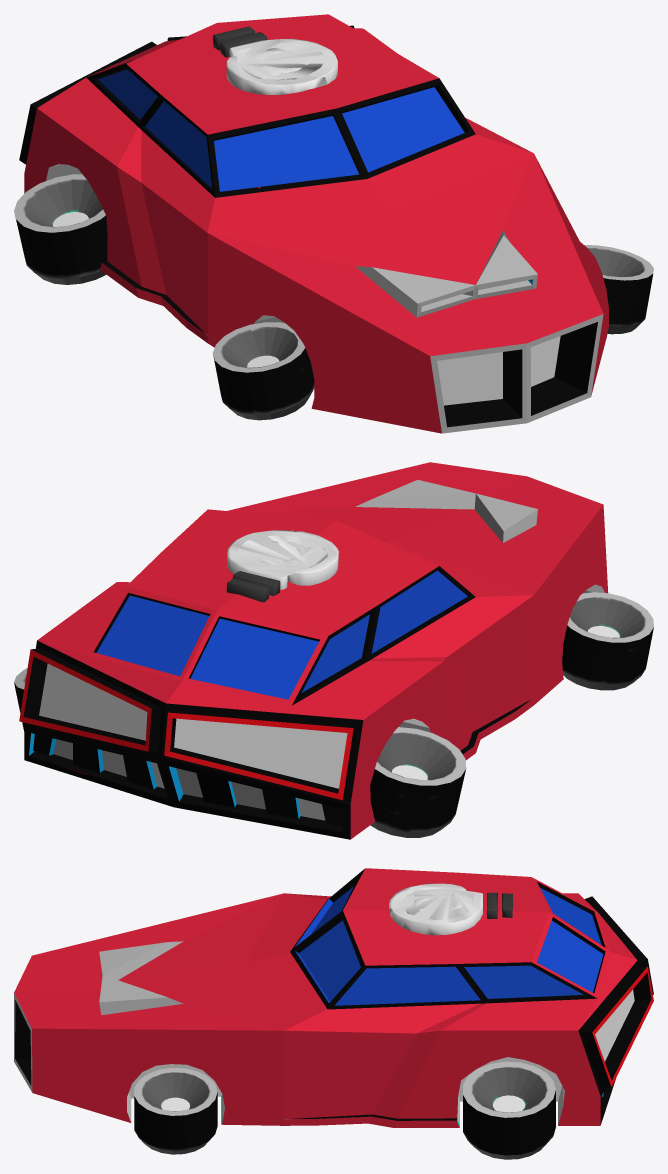
The picture shows the model from 3 angles, top to bottom: view 1: azimuth 30°, elevation 25°; view 2: azimuth 150°, elevation 25°; view 3: azimuth 270°, elevation 25°; orthographic projection. The views are drawn at different scales.
Visible parts, largest first — view 1: Cylinder.003; view 2: Cylinder.003; view 3: Cylinder.003.
Part boxes in pixels (box(x1,y1,x2,y2)): Cylinder.003: box(14, 14, 653, 433); Cylinder.003: box(14, 462, 653, 839); Cylinder.003: box(14, 868, 653, 1159).
Size of the model in its own units: 281 by 123 by 412.
Materials: 3 (1 with a texture image).
